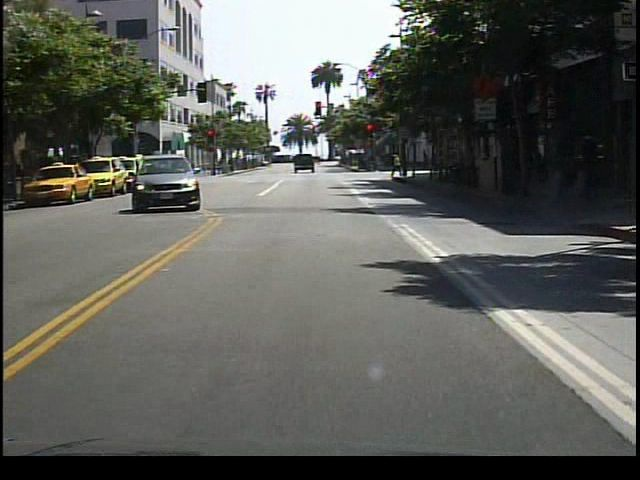person: (391, 150, 406, 178)
